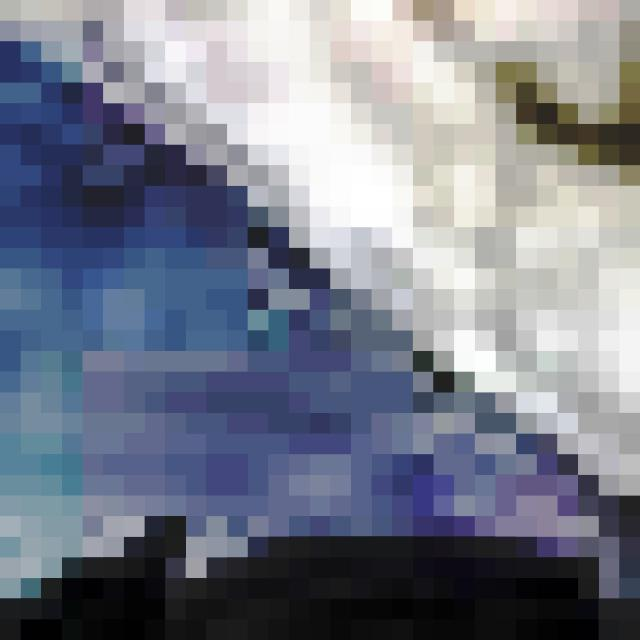arms: (0, 537, 186, 640)
